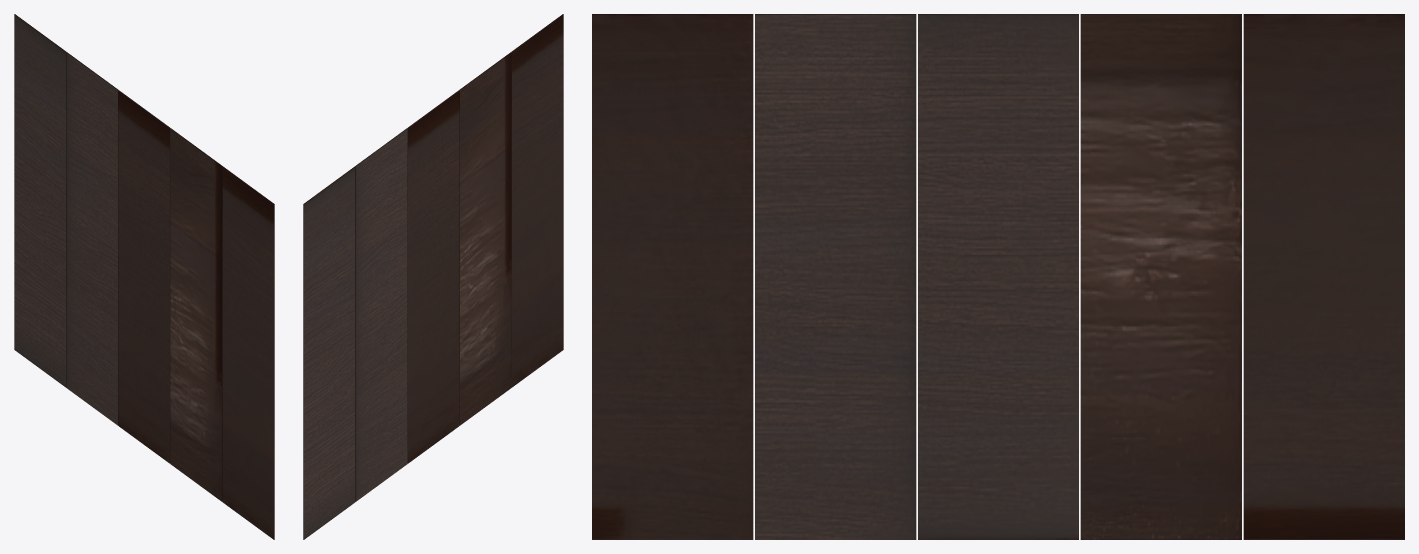
File: APlane.gltf
3 views of the same model, side by side, from view 1: azimuth 30°, elevation 25°; view 2: azimuth 150°, elevation 25°; view 3: azimuth 270°, elevation 25° (orthographic). The views are drawn at different scales.
Visible parts, largest first — view 1: APlane; view 2: APlane; view 3: APlane.
Boxes of the visible parts, bbox=[...] form: APlane: bbox=[14, 14, 274, 539]; APlane: bbox=[303, 14, 563, 539]; APlane: bbox=[592, 14, 1404, 539].
Size of the model in its own units: 0.00499 by 2.68 by 3.75.
1 material, 1 textured.
